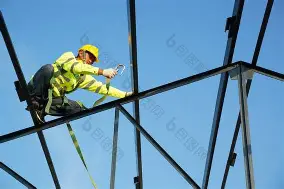safety belt: (47, 51, 83, 99)
